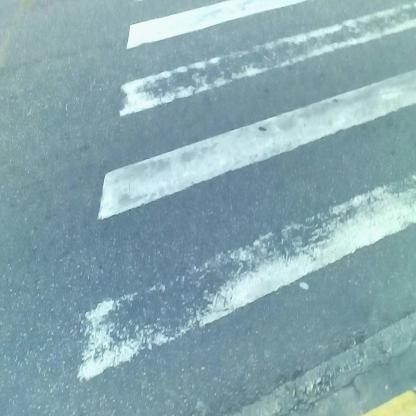crosswalk: (112, 20, 416, 413)
